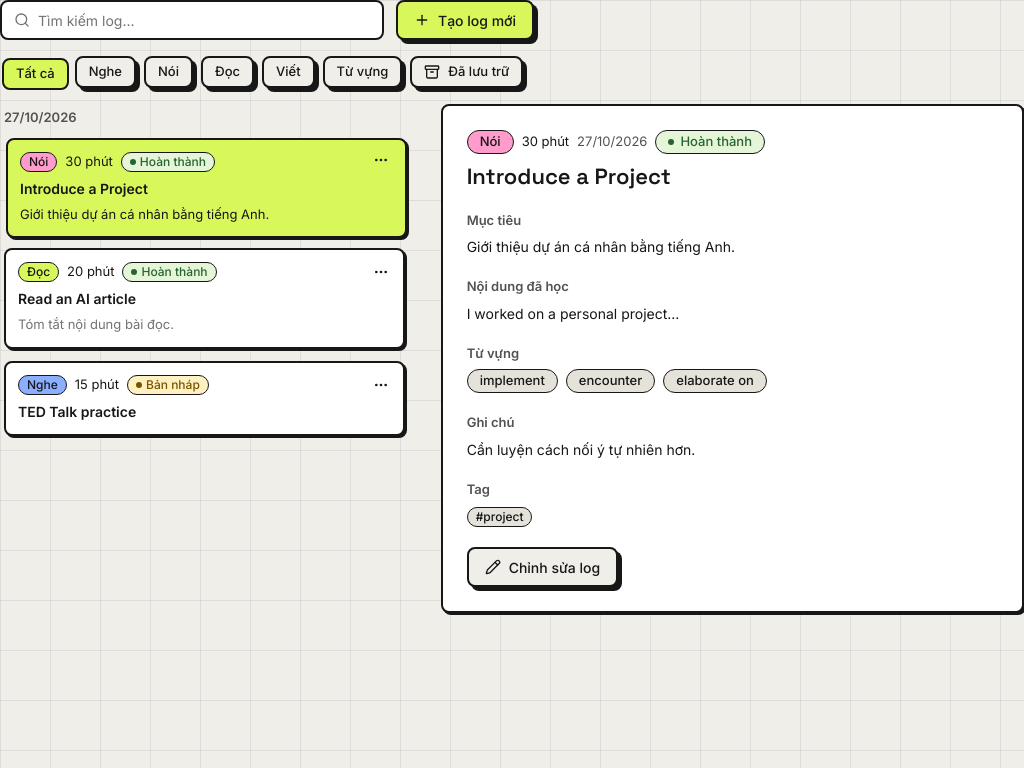
Scenario: EnglishDiary › creates a log that appears in the timeline and persists
The width and height of the screenshot is (1024, 768).
Step 1. Click the button "Tạo log mới" → click(465, 20), box [396, 0, 534, 40]
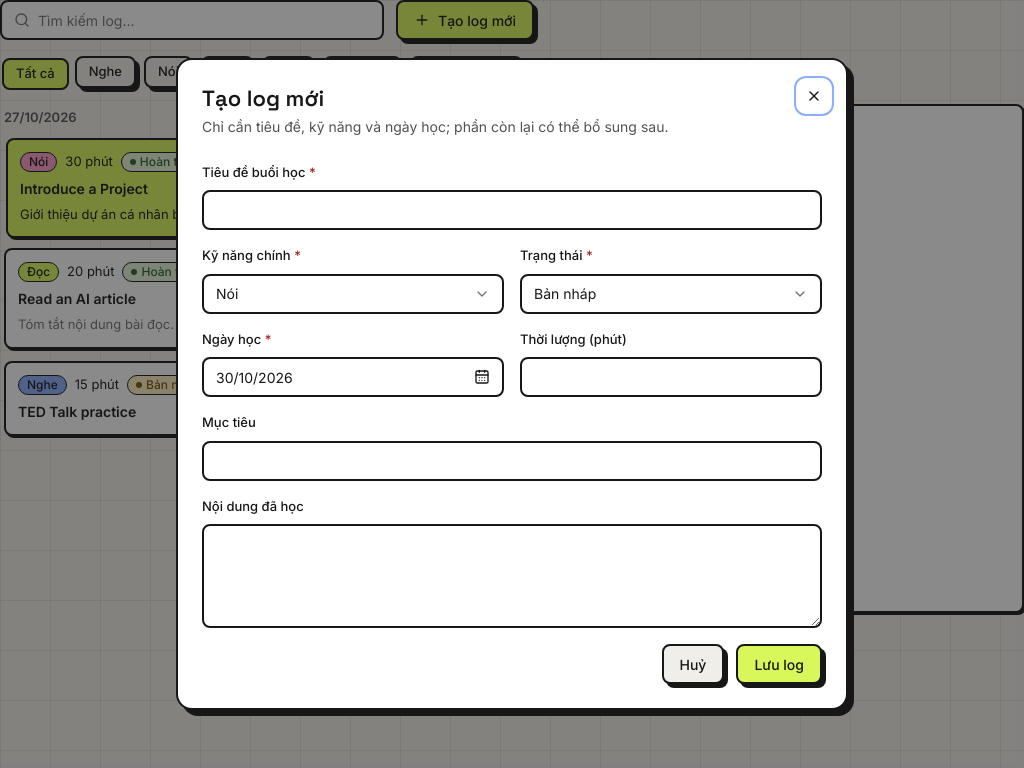
Step 2. Click the button "Lưu log" → click(779, 664), box [736, 644, 822, 684]
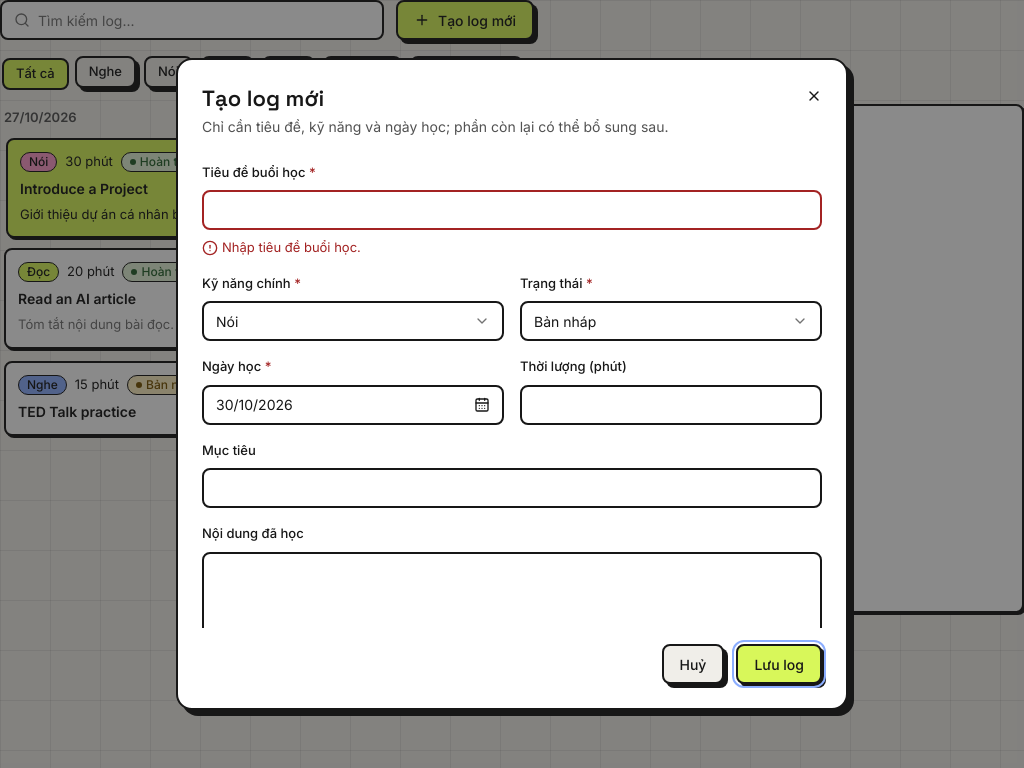
Expected: the text "Nhập tiêu đề buổi học." is shown, [222, 238, 361, 258]
Step 3. Type "Shadowing practice" into the field labelled "Tiêu đề buổi học *" → (512, 210), box [216, 192, 808, 228]
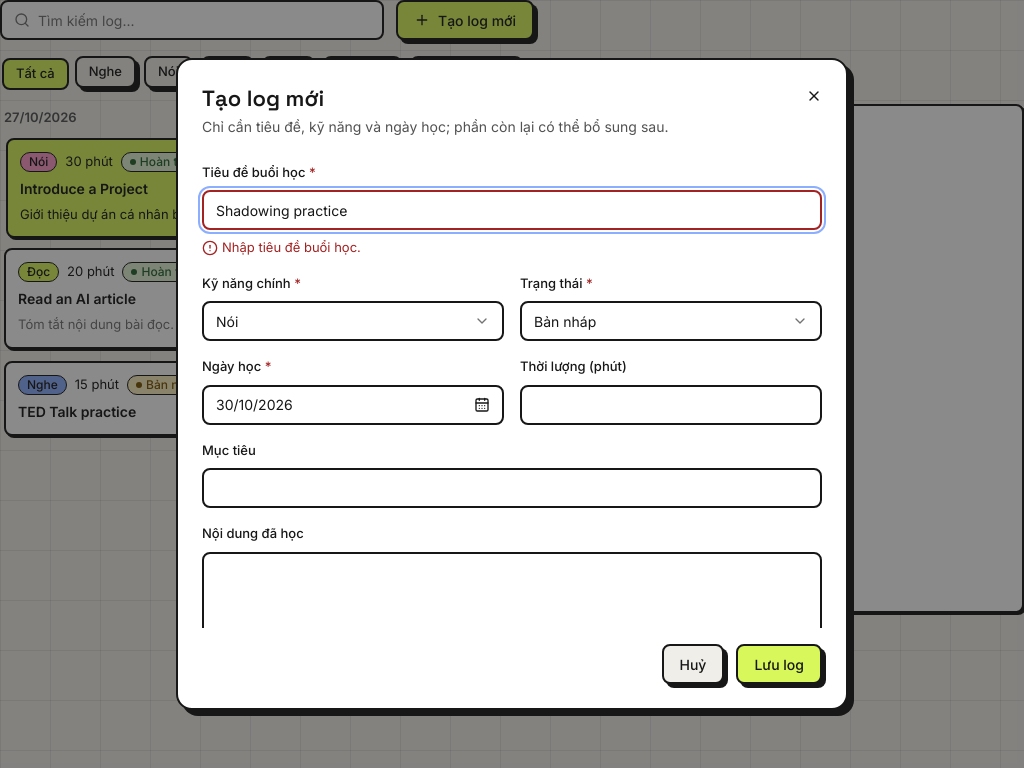
Step 4. Click the button "Lưu log" → click(779, 664), box [736, 644, 822, 684]
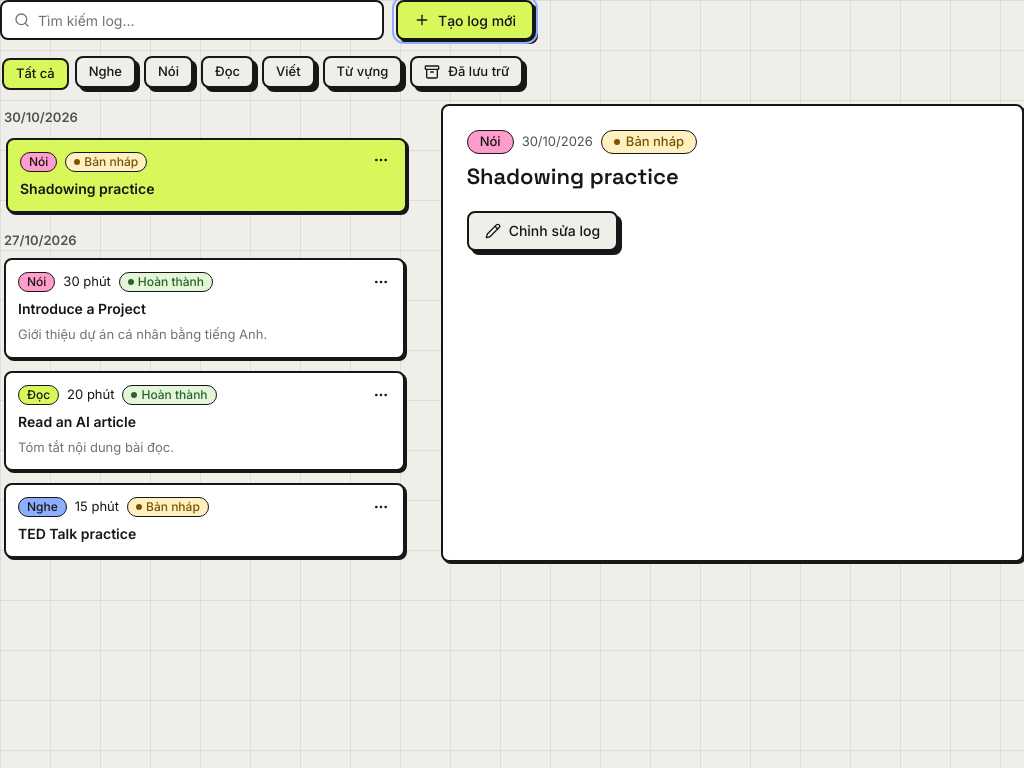
Expected: the dialog is gone
Expected: the button "Nói Bản nháp Shadowing practice" is shown, [6, 138, 407, 212]
